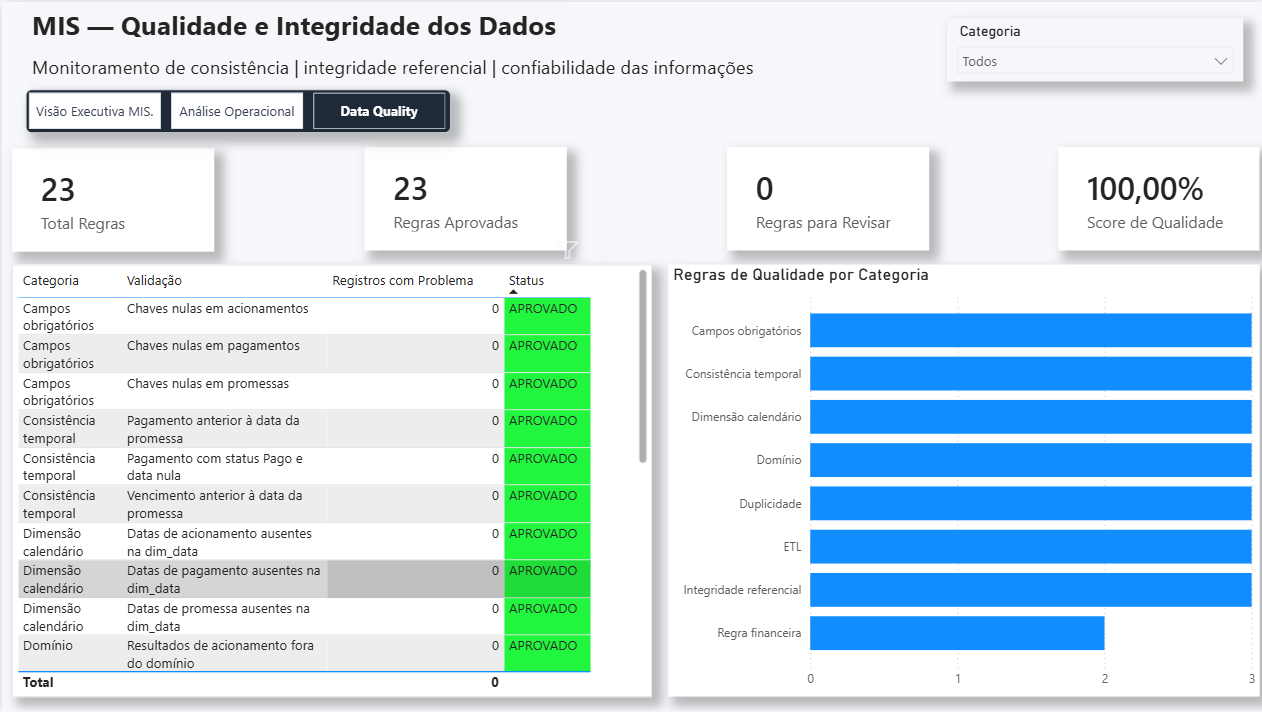

This screenshot's page, from the dashboard's own definition file:
{"tool":"powerbi","page":{"name":"Data Quality","canvas":[1280,720],"ordinal":2},"visuals":[{"type":"textbox","box":[24.8,0,546.7,48.5],"z":0},{"type":"textbox","box":[24.8,48.5,741.6,38.3],"z":1000},{"type":"cardVisual","fields":{"Data":["vw_data_quality.Total Regras"]},"box":[10.1,148.1,205.1,105.1],"z":2000},{"type":"cardVisual","fields":{"Data":["vw_data_quality.Regras Aprovadas"]},"box":[367.1,146.8,205.1,105.1],"z":3000},{"type":"cardVisual","fields":{"Data":["vw_data_quality.Regras para Revisar"]},"box":[734.2,146.8,205.1,105.1],"z":4000},{"type":"cardVisual","fields":{"Data":["vw_data_quality.Score de Qualidade"]},"box":[1069.6,146.8,205.1,105.1],"z":5000},{"type":"tableEx","fields":{"Values":["vw_data_quality.categoria","vw_data_quality.validacao","Sum(vw_data_quality.registros_com_problema)","vw_data_quality.status"]},"box":[10.1,265.8,648.1,438],"z":6000},{"type":"clusteredBarChart","title":"Regras de Qualidade por Categoria","fields":{"Category":["vw_data_quality.categoria"],"Y":["CountNonNull(vw_data_quality.id_validacao)"]},"box":[674.7,265.8,600,438],"z":7000},{"type":"slicer","fields":{"Values":["vw_data_quality.categoria"]},"box":[957.5,16.2,300,63.8],"z":8000},{"type":"pageNavigator","box":[23.8,88.8,430,43.8],"z":9000}]}

Visuals, with their boxes in screenshot pixels (x1, y1, x2, y2), scaled from the page's 1280x720 canvas onto the 1262x712 screenshot:
textbox: l=24, t=0, r=563, b=48
textbox: l=24, t=48, r=756, b=86
cardVisual - vw_data_quality.Total Regras: l=10, t=146, r=212, b=250
cardVisual - vw_data_quality.Regras Aprovadas: l=362, t=145, r=564, b=249
cardVisual - vw_data_quality.Regras para Revisar: l=724, t=145, r=926, b=249
cardVisual - vw_data_quality.Score de Qualidade: l=1055, t=145, r=1257, b=249
tableEx - vw_data_quality.categoria x vw_data_quality.validacao: l=10, t=263, r=649, b=696
"Regras de Qualidade por Categoria" clusteredBarChart: l=665, t=263, r=1257, b=696
slicer - vw_data_quality.categoria: l=944, t=16, r=1240, b=79
pageNavigator: l=23, t=88, r=447, b=131
